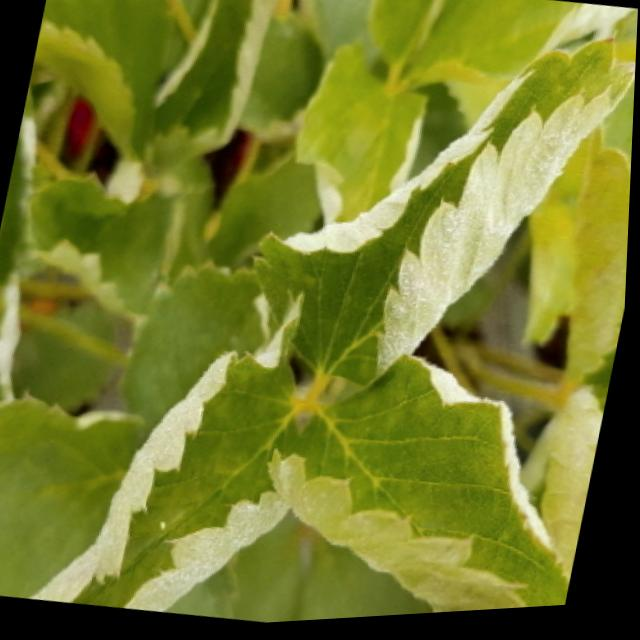Powdery Mildew Leaf: (253, 40, 637, 389), (30, 305, 304, 614), (273, 357, 577, 618), (401, 0, 638, 132), (138, 0, 283, 173), (297, 43, 430, 226), (0, 80, 40, 287), (0, 271, 29, 408)
